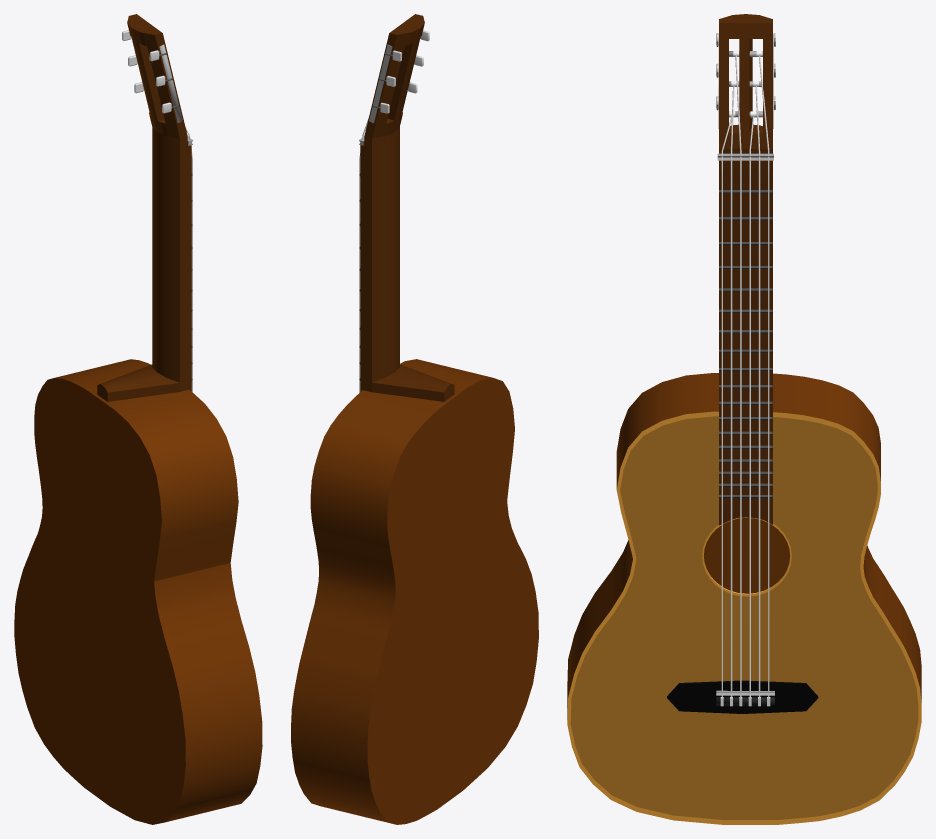
The model's file is ClassicalGuitar.fbx.
3 views of the same model, side by side, from view 1: azimuth 30°, elevation 25°; view 2: azimuth 150°, elevation 25°; view 3: azimuth 270°, elevation 25° (orthographic). The views are drawn at different scales.
Visible parts, largest first — view 1: ClassicalGuitar; view 2: ClassicalGuitar; view 3: ClassicalGuitar.
Boxes of the visible parts, left/top/right/bottom form: ClassicalGuitar: left=14, top=14, right=262, bottom=824; ClassicalGuitar: left=291, top=14, right=538, bottom=824; ClassicalGuitar: left=567, top=14, right=921, bottom=824.
Size of the model in its own units: 132 by 1151 by 469.
